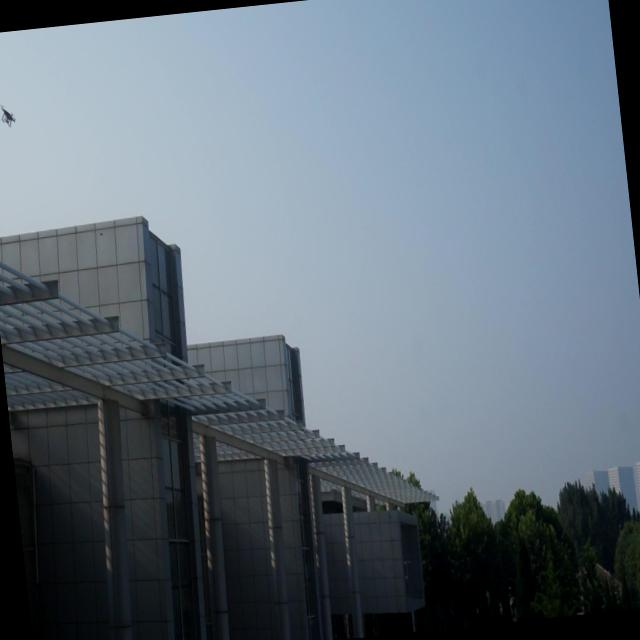drone: (0, 97, 20, 132)
